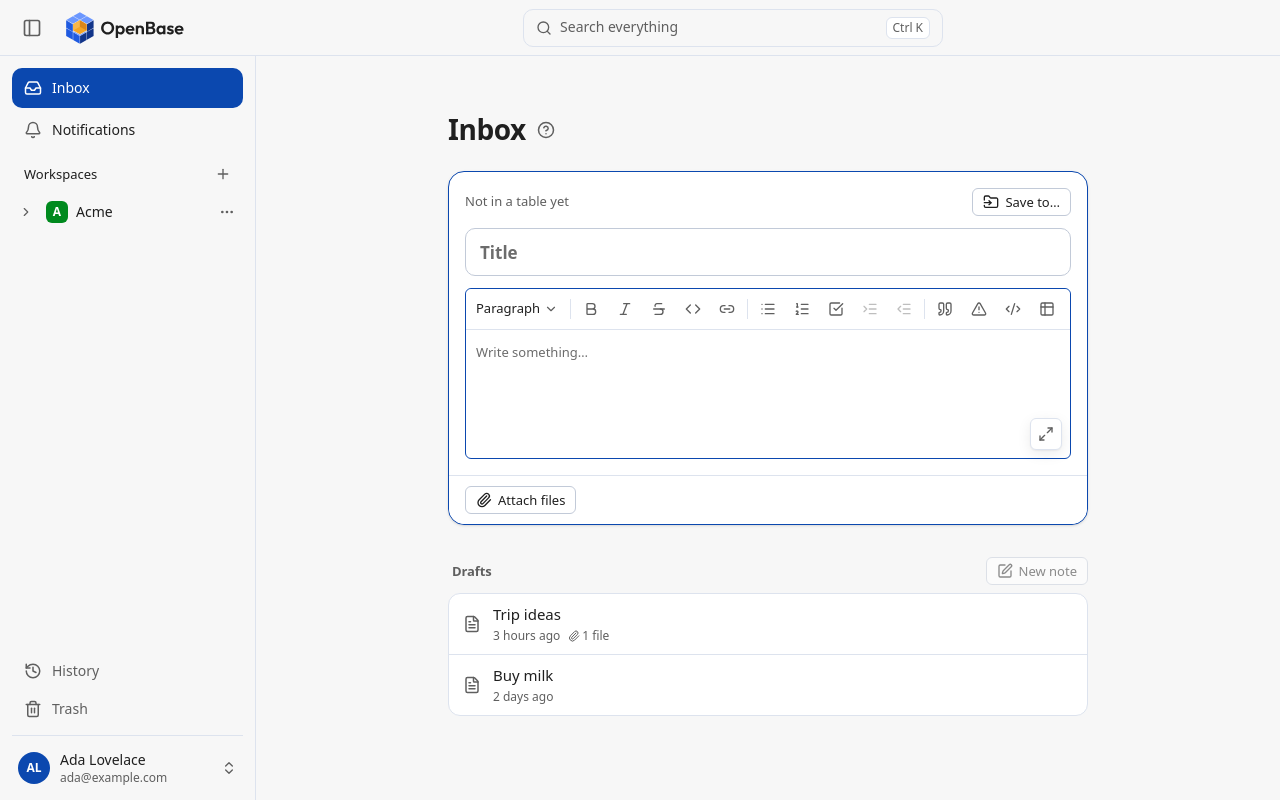
Test case: drafts › lists your drafts with a preview, how long ago and how many files, and loads one into the box
This screenshot has width=1280, height=800.
Expected: the button "Buy milk 2 days ago" is shown, [449, 655, 1087, 715]
Click the button "Trip ideas 3 hours ago 1 file". click: (527, 614)
box: [449, 594, 1087, 654]
(page scrolled)
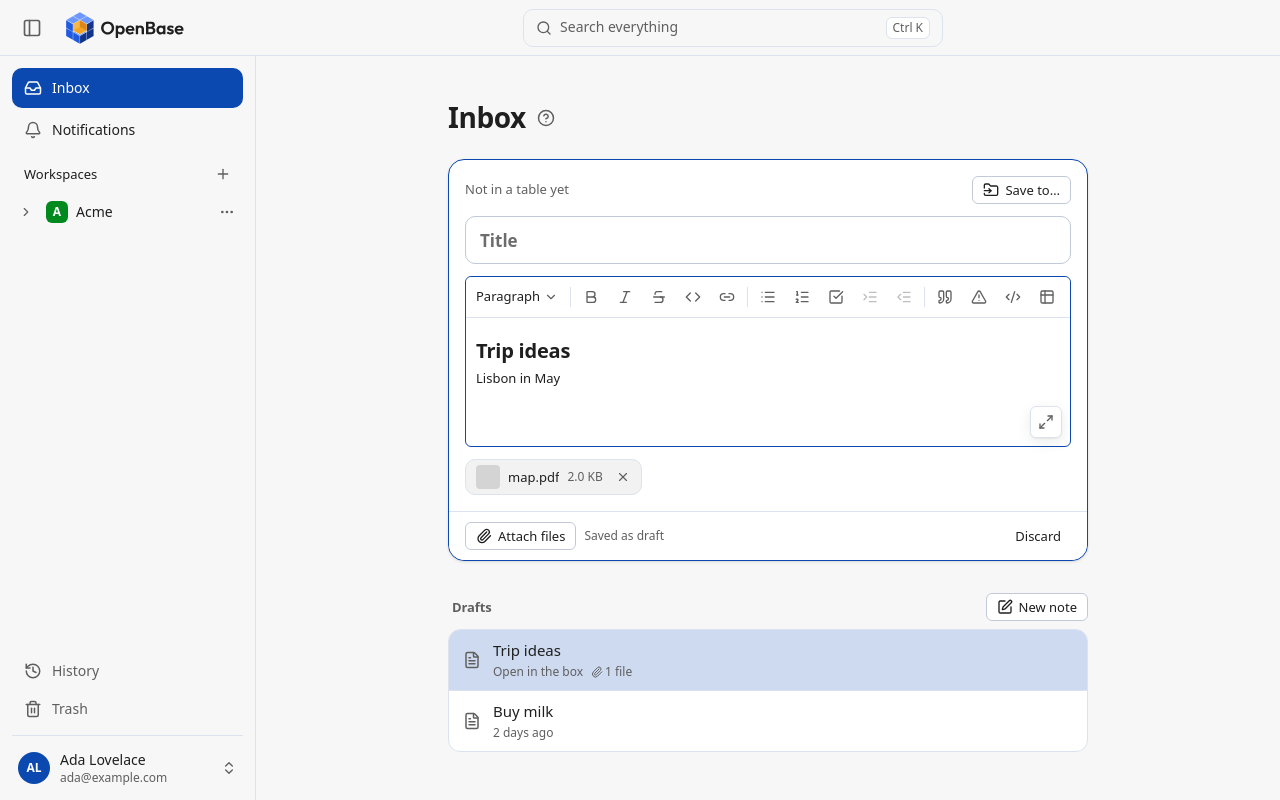
Expected: the field named "Note" shows "Lisbon in May", [476, 337, 570, 387]
Expected: the list named "Attached files" shows "map.pdf", [476, 465, 603, 489]
